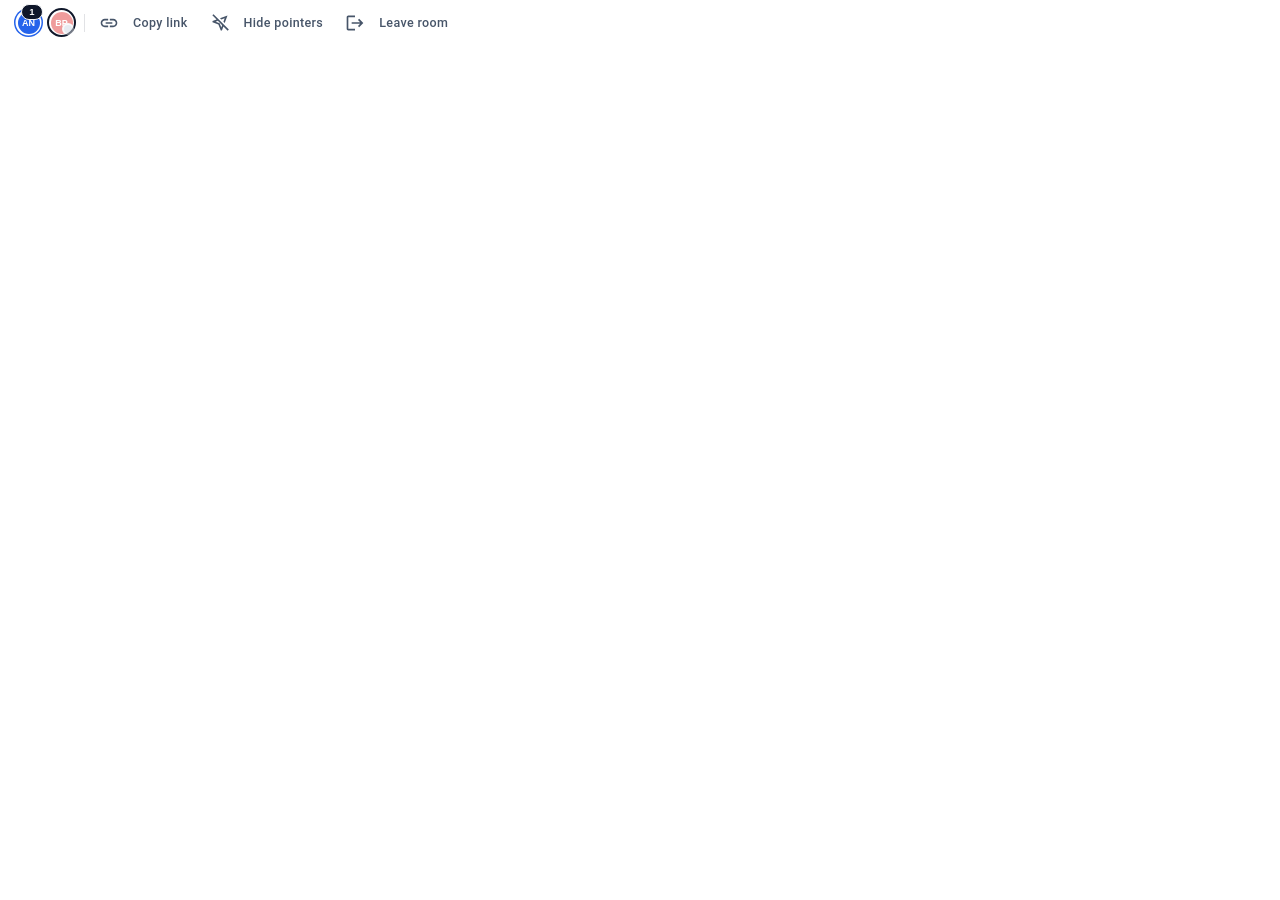
Scenario: RoomBar › opens a circle's card with Enter and closes it with Esc
Click the button with aria-label "Boris Petrov". click: point(62, 22)
box: [47,8,76,37]
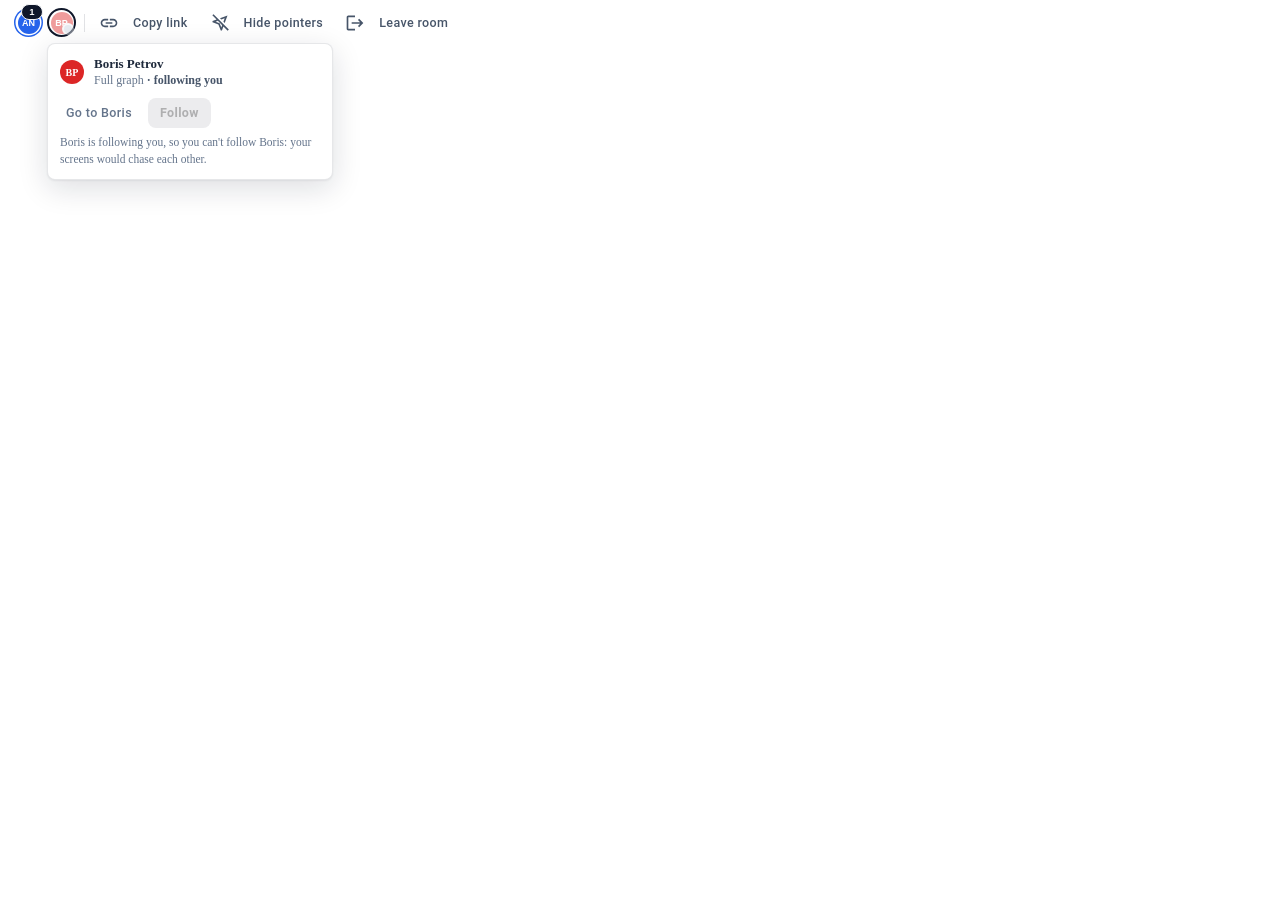
Expected: the dialog "Boris Petrov" is shown, [47,43,333,180]
Press Escape
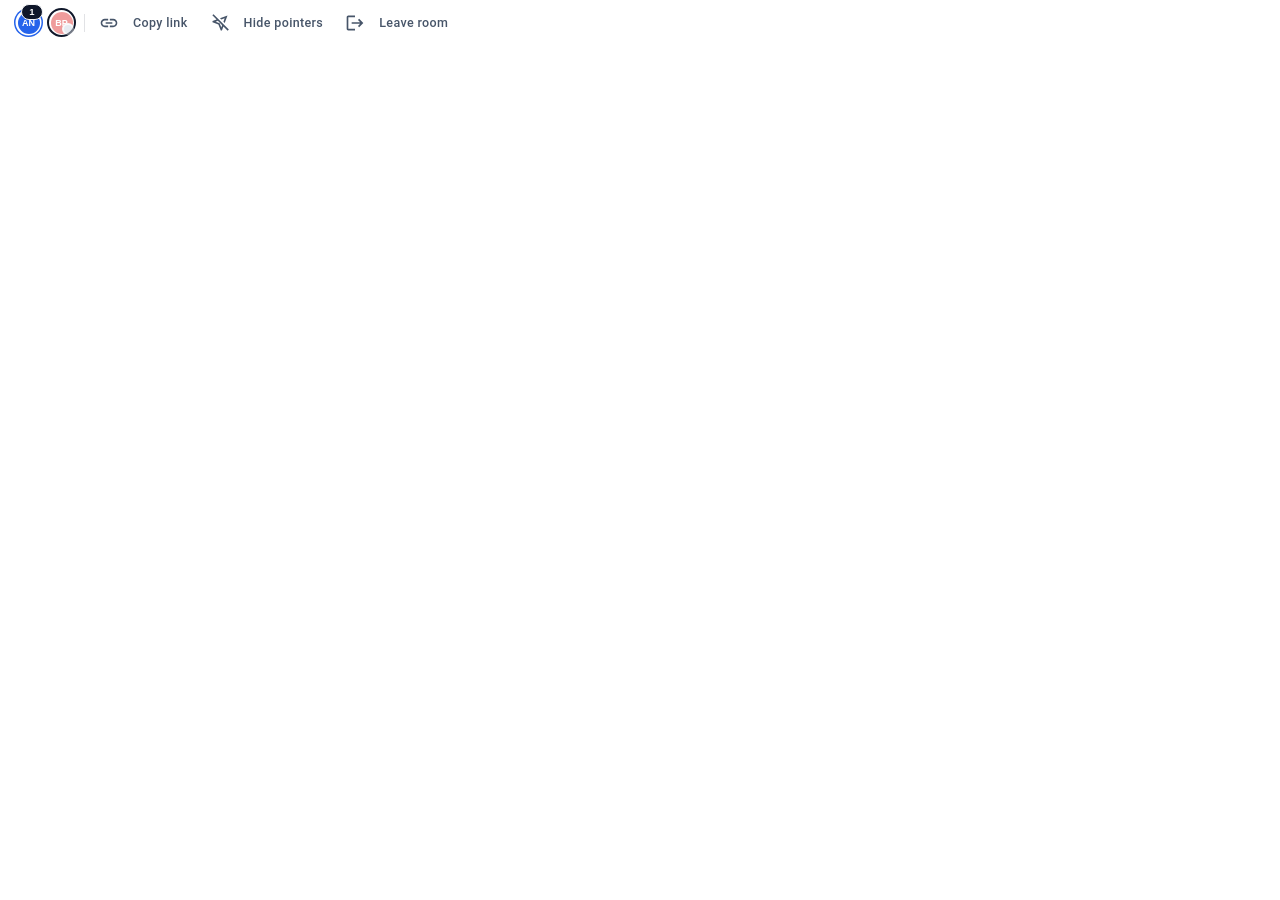
Expected: the text "Boris Petrov" is gone
